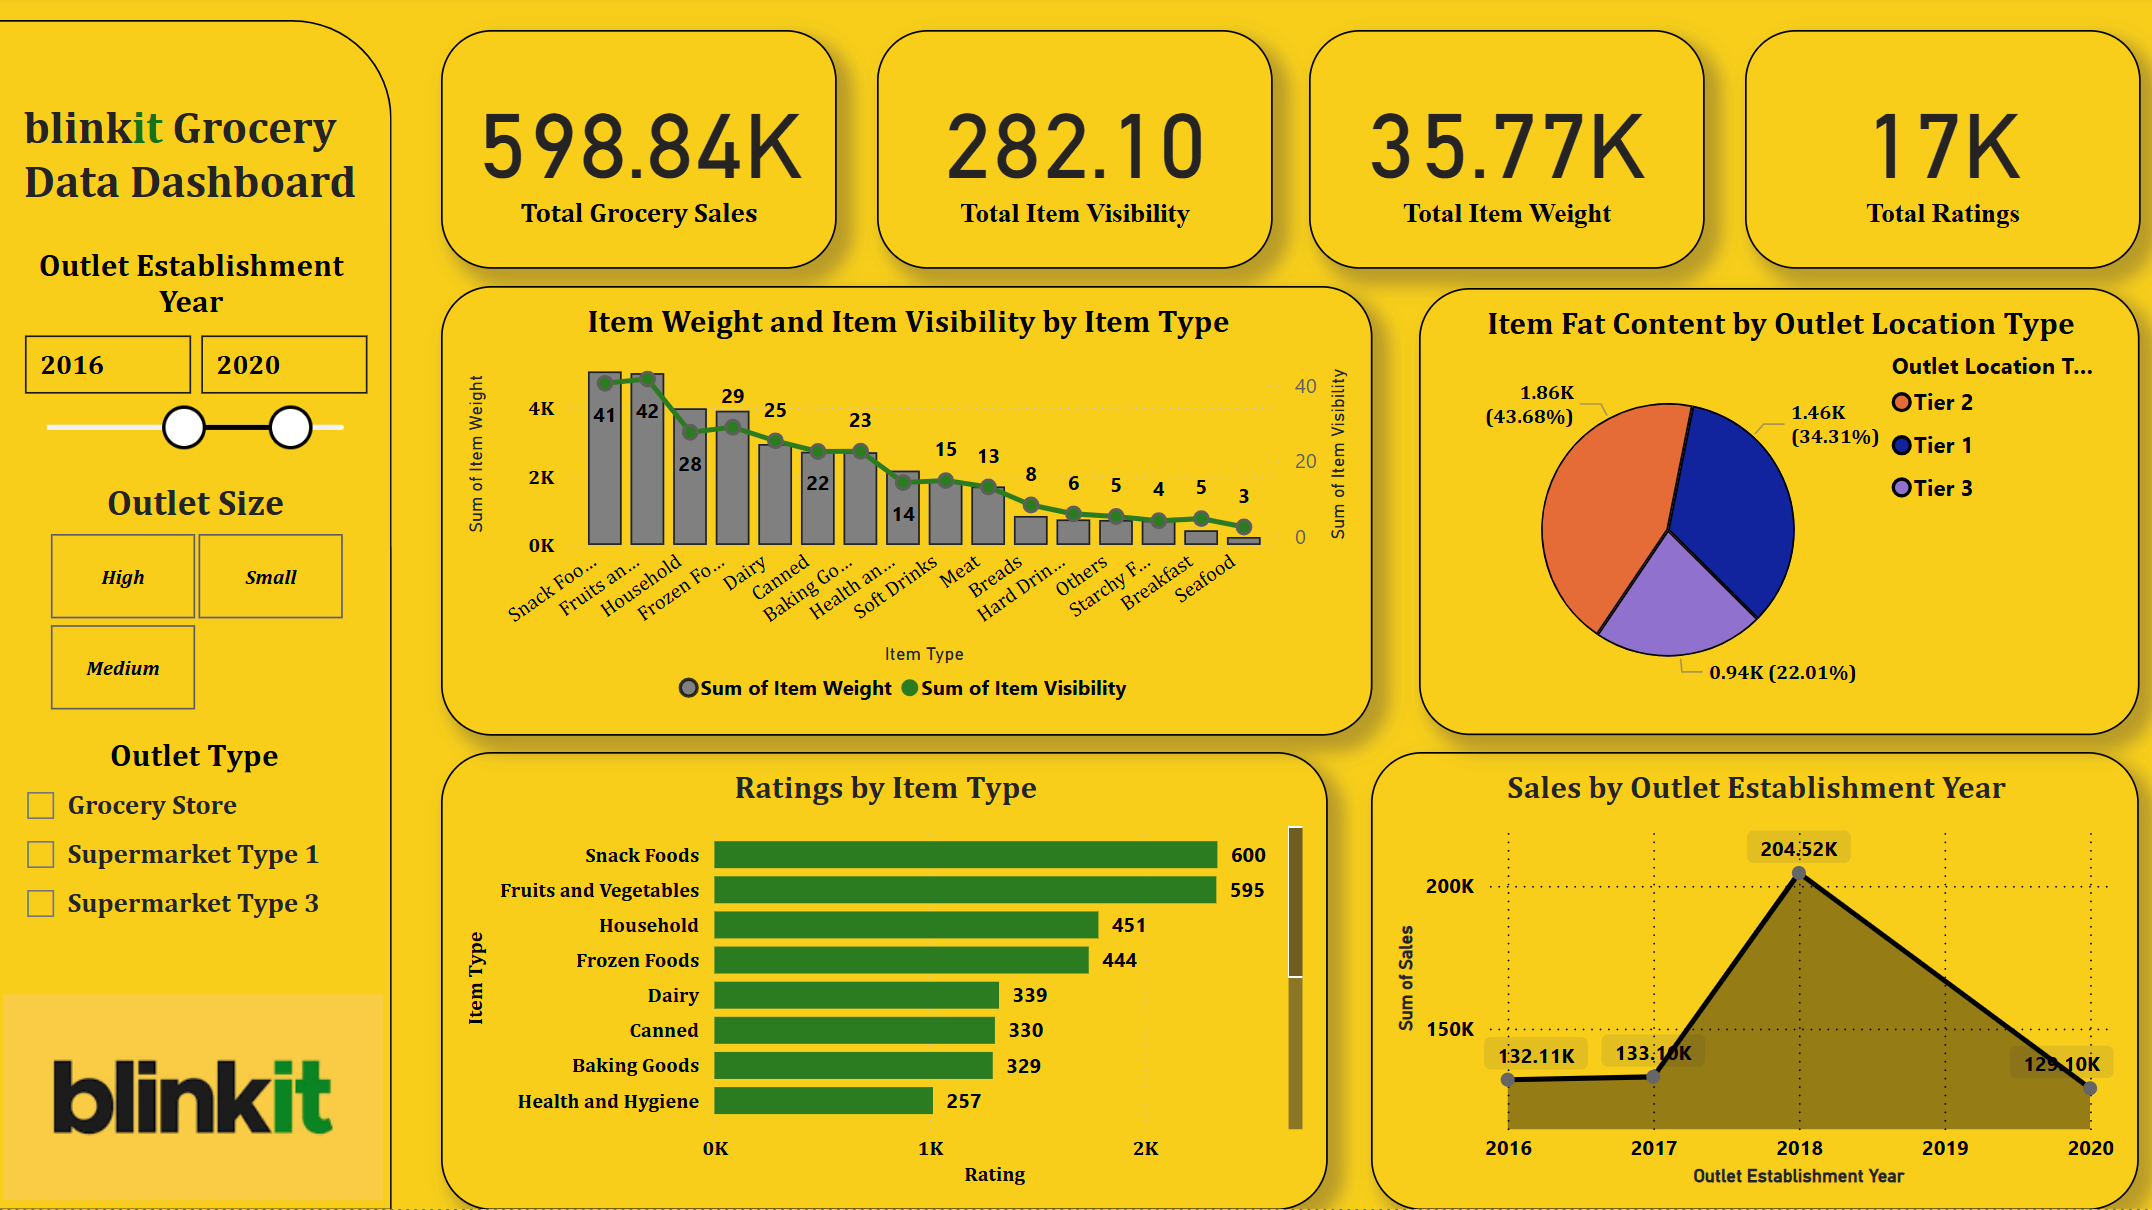

Layout of this report page (visuals, bound fields, positions):
{"tool":"powerbi","page":{"name":"BlinkIt_1","canvas":[1280,720],"ordinal":0},"visuals":[{"type":"shape","box":[0,15.9,235.1,705.4],"z":0},{"type":"textbox","box":[11.5,58.6,219.3,76.5],"z":1000},{"type":"slicer","title":"Outlet Size","fields":{"Values":["BlinkIT Grocery Data.Outlet Size"]},"box":[7.6,288.1,223.1,142.8],"z":2000},{"type":"image","box":[0,587.8,235.1,132.1],"z":3000},{"type":"slicer","title":"Outlet Establishment Year","fields":{"Values":["BlinkIT Grocery Data.Outlet Establishment Year"]},"box":[5.1,149.2,223.1,130],"z":4000},{"type":"slicer","title":"Outlet Type","fields":{"Values":["BlinkIT Grocery Data.Outlet Type"]},"box":[6.4,439.8,224.4,147.9],"z":5000},{"type":"card","fields":{"Values":["Sum(BlinkIT Grocery Data.Item Visibility)"]},"box":[522.7,21.7,234.6,141.5],"z":6000},{"type":"card","fields":{"Values":["Sum(BlinkIT Grocery Data.Item Weight)"]},"box":[779,21.7,234.6,141.5],"z":7000},{"type":"card","fields":{"Values":["Sum(BlinkIT Grocery Data.Sales)"]},"box":[263.9,21.7,234.6,141.5],"z":8000},{"type":"card","fields":{"Values":["Sum(BlinkIT Grocery Data.Rating)"]},"box":[1036.5,21.7,234.6,141.5],"z":9000},{"type":"stackedAreaChart","title":"Sales by Outlet Establishment Year","fields":{"Y":["Sum(BlinkIT Grocery Data.Sales)"],"Category":["BlinkIT Grocery Data.Outlet Establishment Year"]},"box":[815.9,448.8,455.1,271.6],"z":10000},{"type":"barChart","title":"Ratings by Item Type","fields":{"Y":["Sum(BlinkIT Grocery Data.Rating)"],"Category":["BlinkIT Grocery Data.Item Type"]},"box":[263.9,448.8,525.3,271.6],"z":11000},{"type":"pieChart","title":" Item Fat Content by Outlet Location Type","fields":{"Y":["CountNonNull(BlinkIT Grocery Data.Item Fat Content)"],"Category":["BlinkIT Grocery Data.Outlet Location Type"]},"box":[844,174.7,427.1,265.2],"z":12000},{"type":"lineClusteredColumnComboChart","title":"Item Weight and Item Visibility by Item Type","fields":{"Y":["Sum(BlinkIT Grocery Data.Item Weight)"],"Y2":["Sum(BlinkIT Grocery Data.Item Visibility)"],"Category":["BlinkIT Grocery Data.Item Type"]},"box":[263.9,173.4,552,266.5],"z":13000}]}

Visuals, with their boxes in screenshot pixels (x1, y1, x2, y2), scaled from the page's 1280x720 canvas onto the 2152x1210 screenshot:
shape: 0, 27, 395, 1209
textbox: 19, 98, 388, 227
"Outlet Size" slicer: 13, 484, 388, 724
image: 0, 988, 395, 1209
"Outlet Establishment Year" slicer: 9, 251, 384, 469
"Outlet Type" slicer: 11, 739, 388, 988
card - Sum(BlinkIT Grocery Data.Item Visibility): 879, 36, 1273, 274
card - Sum(BlinkIT Grocery Data.Item Weight): 1310, 36, 1704, 274
card - Sum(BlinkIT Grocery Data.Sales): 444, 36, 838, 274
card - Sum(BlinkIT Grocery Data.Rating): 1743, 36, 2137, 274
"Sales by Outlet Establishment Year" stackedAreaChart: 1372, 754, 2137, 1209
"Ratings by Item Type" barChart: 444, 754, 1327, 1209
" Item Fat Content by Outlet Location Type" pieChart: 1419, 294, 2137, 739
"Item Weight and Item Visibility by Item Type" lineClusteredColumnComboChart: 444, 291, 1372, 739
